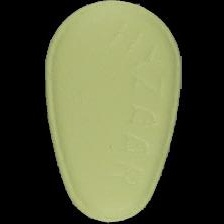0006-0717: (0, 0, 224, 224)
